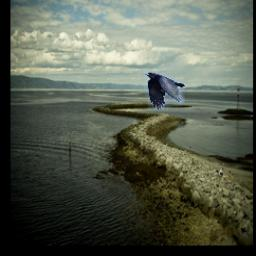Crow: (145, 72, 186, 109)
